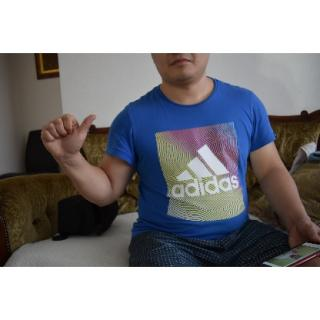DAD: (36, 110, 101, 164)
